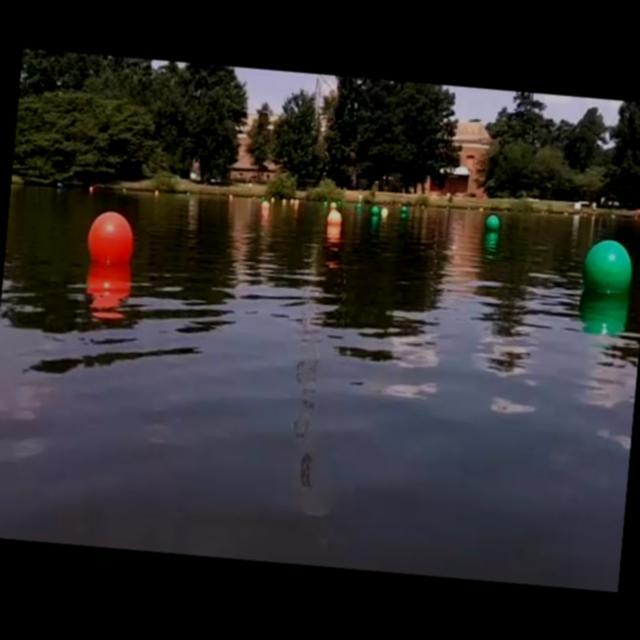buoy: (578, 234, 635, 296), (82, 205, 136, 266), (485, 212, 499, 232), (328, 210, 342, 227), (370, 204, 380, 218), (378, 206, 389, 218)
